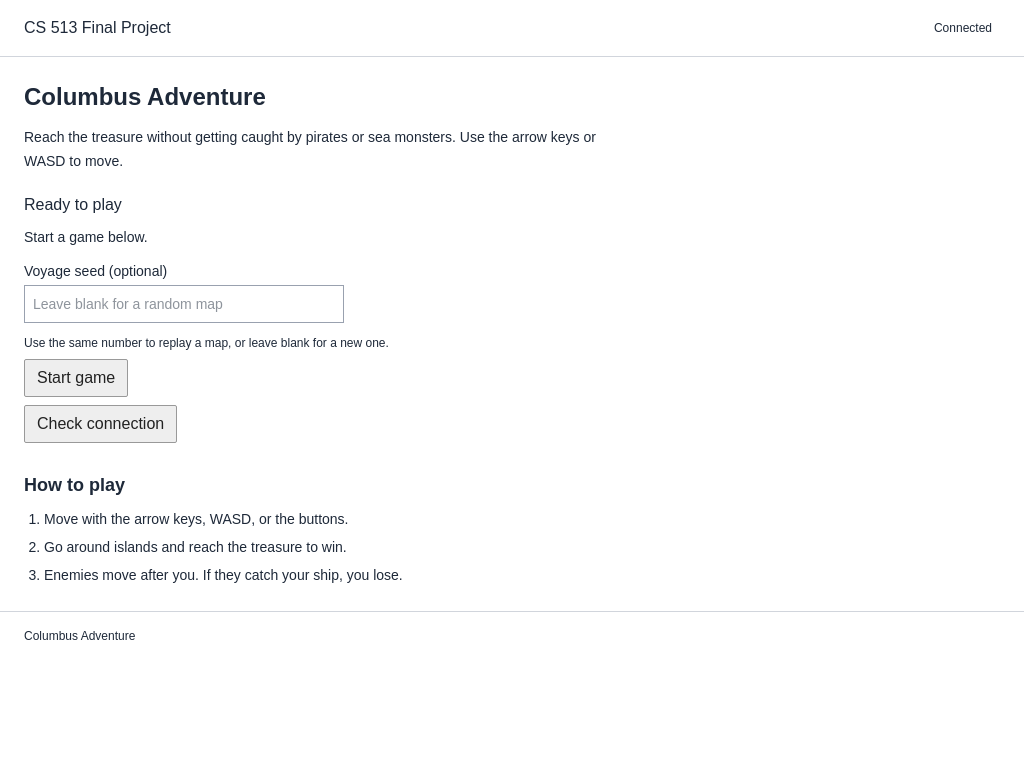
Test: stops all movement immediately when the backend returns WON
Later steps or results of the test are not shown.
Check: the text "Connected" is shown, box [934,21,992,35]
Click the button "Start game" at [76, 378], box [24,359,128,397]
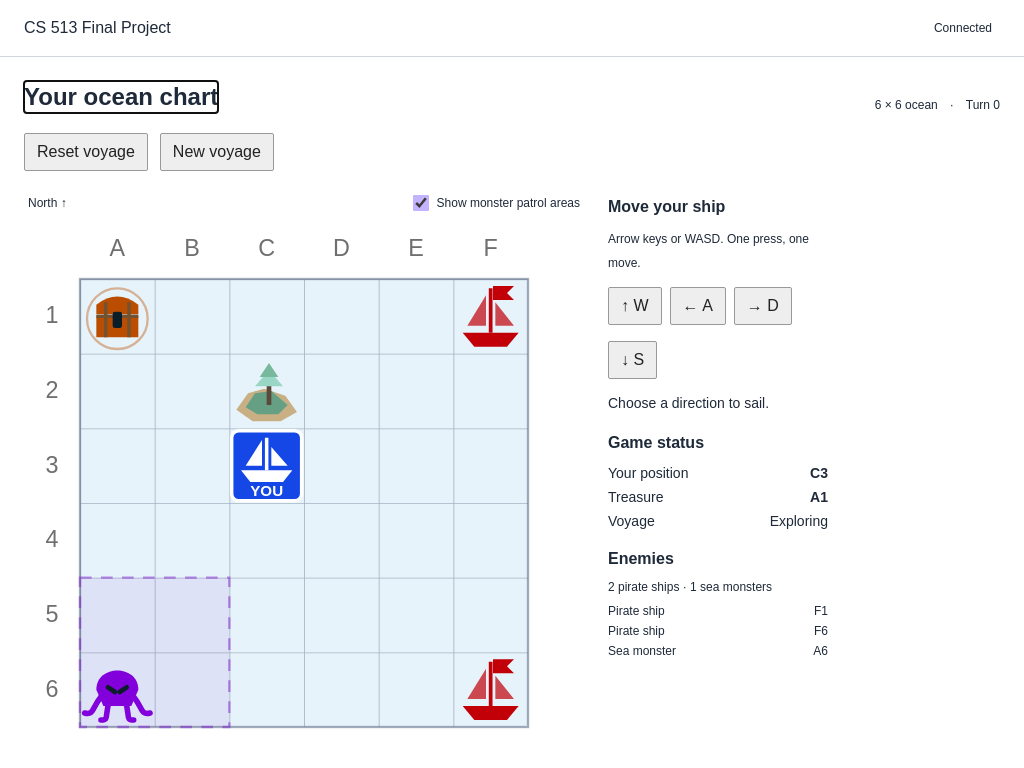
Check: the heading "Your ocean chart" is shown, box [24,81,218,113]
Click the button named "Move south" at [633, 360], box [608,341,657,379]
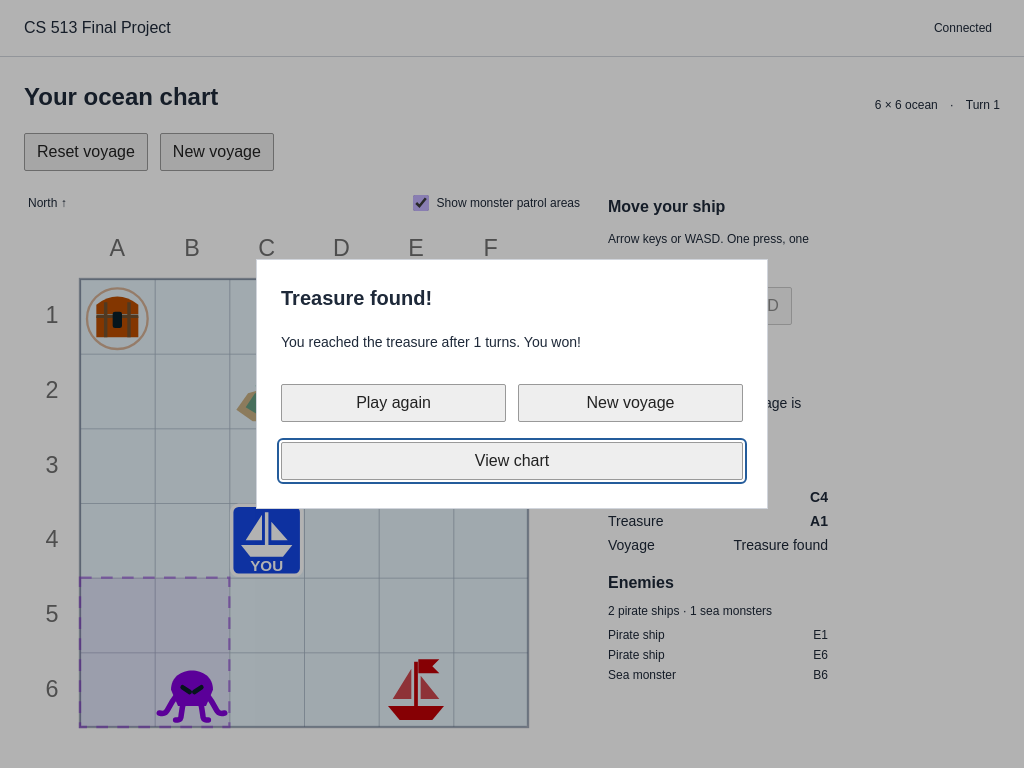
Check: the text "Turn 1" is shown, box [966,97,1000,113]
